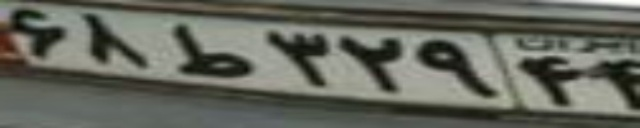2: (338, 34, 404, 93)
3: (266, 29, 333, 88)
4: (517, 56, 583, 106), (594, 58, 638, 113)
6: (7, 7, 68, 59)
8: (75, 11, 149, 70)
9: (417, 38, 496, 98)
taa: (163, 21, 251, 78)
